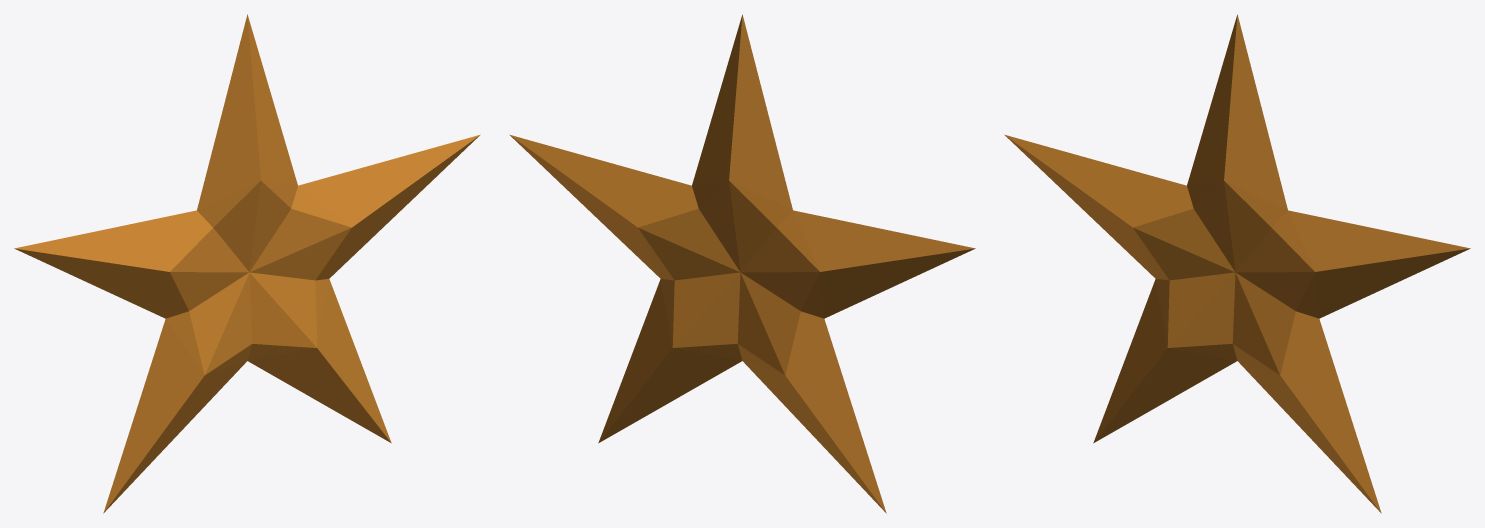
The model's file is Simple star.dae.
The picture shows the model from 3 angles, left to right: view 1: azimuth 30°, elevation 25°; view 2: azimuth 150°, elevation 25°; view 3: azimuth 330°, elevation 25°; orthographic projection.
Visible parts, largest first — view 1: Sphere; view 2: Sphere; view 3: Sphere.
Boxes of the visible parts, x1,y1,x2,y2 form: Sphere: (14, 14, 480, 513); Sphere: (509, 14, 975, 513); Sphere: (1004, 14, 1470, 513).
Size of the model in its own units: 3.16 by 0.3163 by 3.01.
